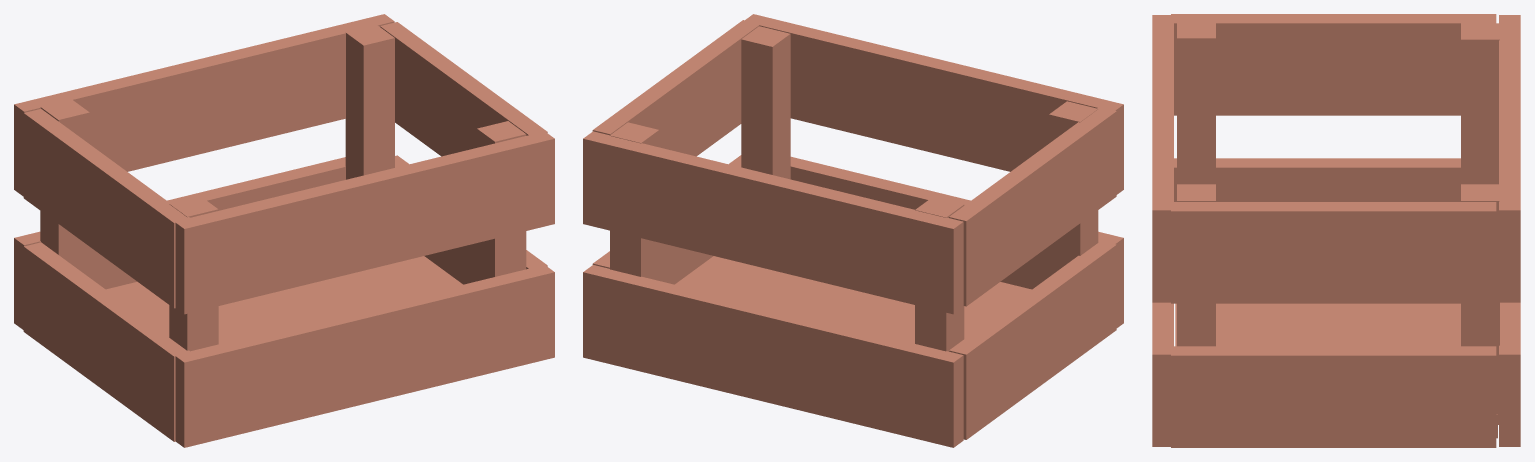
File: skrzynka.fbx
The picture shows the model from 3 angles, left to right: view 1: azimuth 30°, elevation 25°; view 2: azimuth 150°, elevation 25°; view 3: azimuth 270°, elevation 25°; orthographic projection. The views are drawn at different scales.
Visible parts, largest first — view 1: Cube; view 2: Cube; view 3: Cube.
Boxes of the visible parts, bbox=[...] form: Cube: bbox=[14, 14, 554, 447]; Cube: bbox=[583, 14, 1123, 447]; Cube: bbox=[1152, 14, 1520, 447].
Size of the model in its own units: 343 by 192 by 271.
